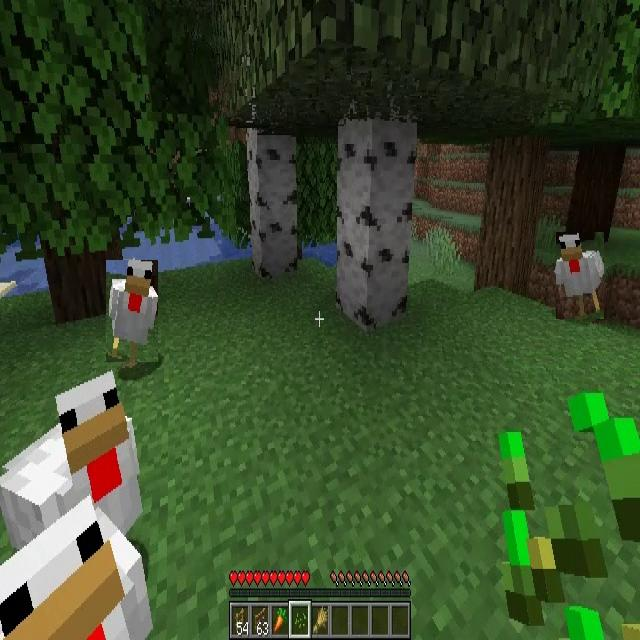duck: (2, 370, 154, 560), (0, 498, 156, 640), (106, 260, 158, 362), (556, 232, 604, 319)
